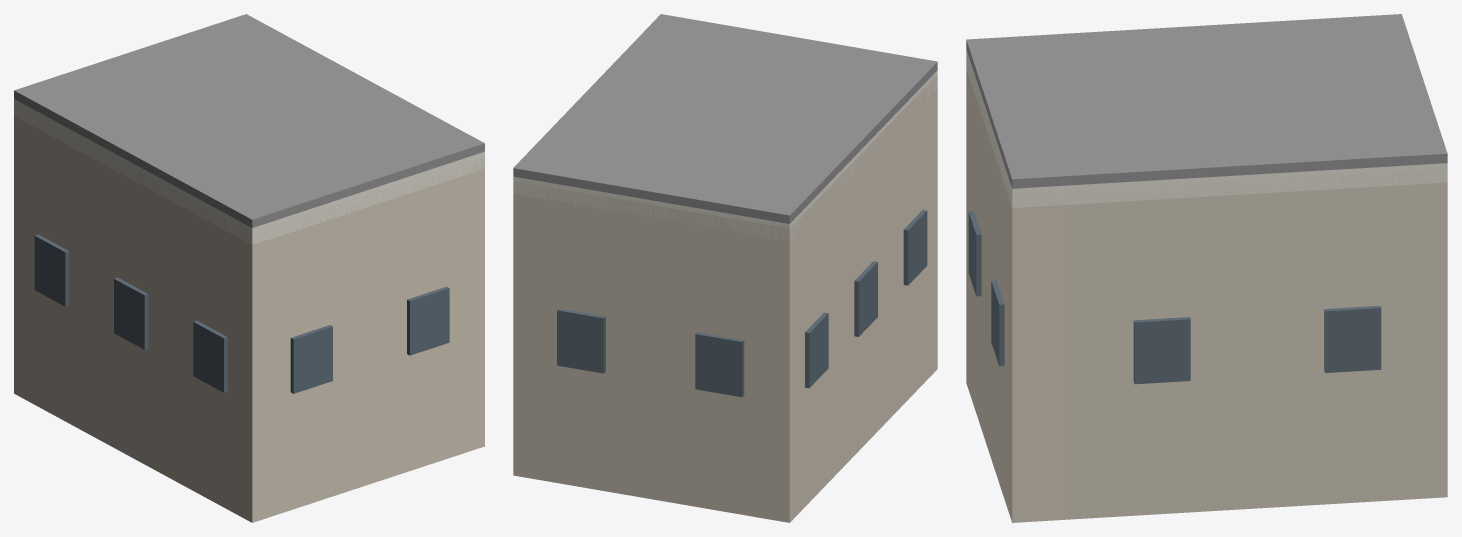
File: s33_tile_tile__1_0_27.glb
3 views of the same model, side by side, from view 1: azimuth 30°, elevation 25°; view 2: azimuth 150°, elevation 25°; view 3: azimuth 270°, elevation 25° (orthographic). The views are drawn at different scales.
Parts seen in each view (by area): view 1: mass, roofcap, cornice, win_2_0_1, win_2_0_0, win_1_0_0, win_1_0_1, win_1_0_2; view 2: mass, roofcap, cornice, win_0_0_1, win_0_0_0, win_1_0_2, win_1_0_0, win_1_0_1; view 3: mass, roofcap, cornice, win_4_0_0, win_4_0_1, win_2_0_1, win_2_0_0.
Part boxes in pixels (x1=…): mass: x1=14, y1=112, x2=484, y2=522; roofcap: x1=14, y1=14, x2=484, y2=227; cornice: x1=14, y1=99, x2=484, y2=244; win_2_0_1: x1=407, y1=286, x2=449, y2=355; win_2_0_0: x1=290, y1=325, x2=332, y2=393; win_1_0_0: x1=34, y1=234, x2=68, y2=306; win_1_0_1: x1=114, y1=277, x2=148, y2=349; win_1_0_2: x1=193, y1=320, x2=227, y2=392; mass: x1=513, y1=75, x2=937, y2=522; roofcap: x1=513, y1=14, x2=937, y2=223; cornice: x1=513, y1=70, x2=937, y2=240; win_0_0_1: x1=695, y1=332, x2=744, y2=397; win_0_0_0: x1=557, y1=308, x2=605, y2=373; win_1_0_2: x1=903, y1=210, x2=927, y2=285; win_1_0_0: x1=805, y1=312, x2=828, y2=388; win_1_0_1: x1=854, y1=261, x2=877, y2=336; mass: x1=966, y1=66, x2=1447, y2=522; roofcap: x1=966, y1=14, x2=1447, y2=188; cornice: x1=966, y1=49, x2=1447, y2=208; win_4_0_0: x1=1133, y1=317, x2=1190, y2=384; win_4_0_1: x1=1324, y1=305, x2=1381, y2=372; win_2_0_1: x1=991, y1=280, x2=1004, y2=366; win_2_0_0: x1=968, y1=210, x2=981, y2=296.
Size of the model in its own units: 8.62 by 8.35 by 10.6.
